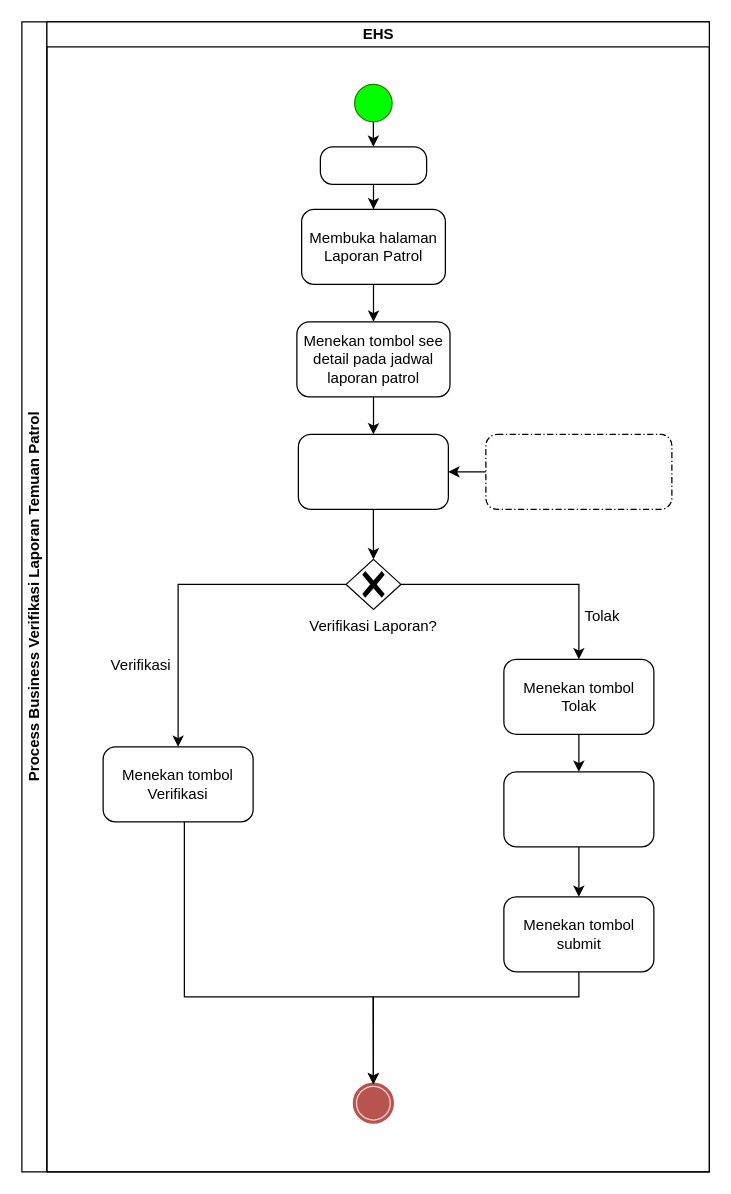
The diagram is 731 pixels wide and 1194 high, and some of its shapes have lost their labels. Each missing label, with the centre of its shape:
Login: pixel 373 165
Menekan tombol see detail pada laporan temuan: pixel 372 471
Mengisi form penolakan: pixel 578 809
Temuan harus memiliki indikator proses lingkaran berwarna hijau: pixel 578 471
